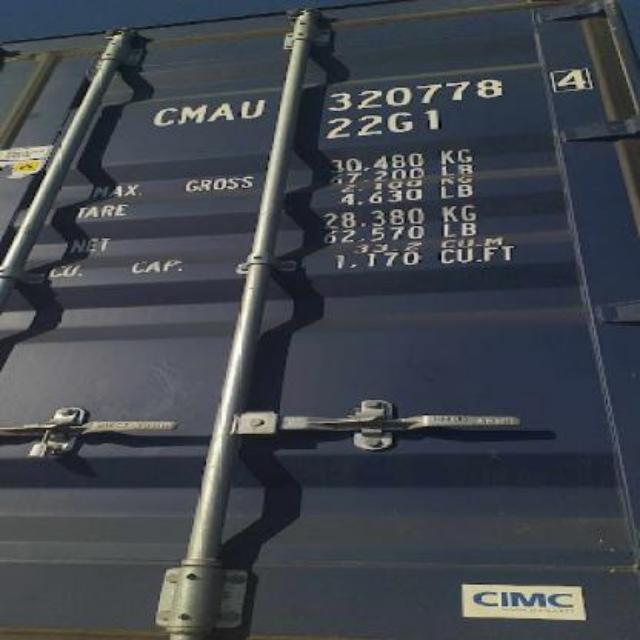0: (388, 85, 414, 108)
2: (352, 87, 384, 113)
3: (324, 90, 354, 114)
4: (550, 68, 598, 94)
7: (444, 77, 468, 106), (416, 81, 438, 105)
8: (472, 78, 518, 104)
A: (206, 99, 238, 125)
C: (154, 104, 178, 130)
M: (174, 100, 206, 130)
U: (240, 98, 270, 120)
